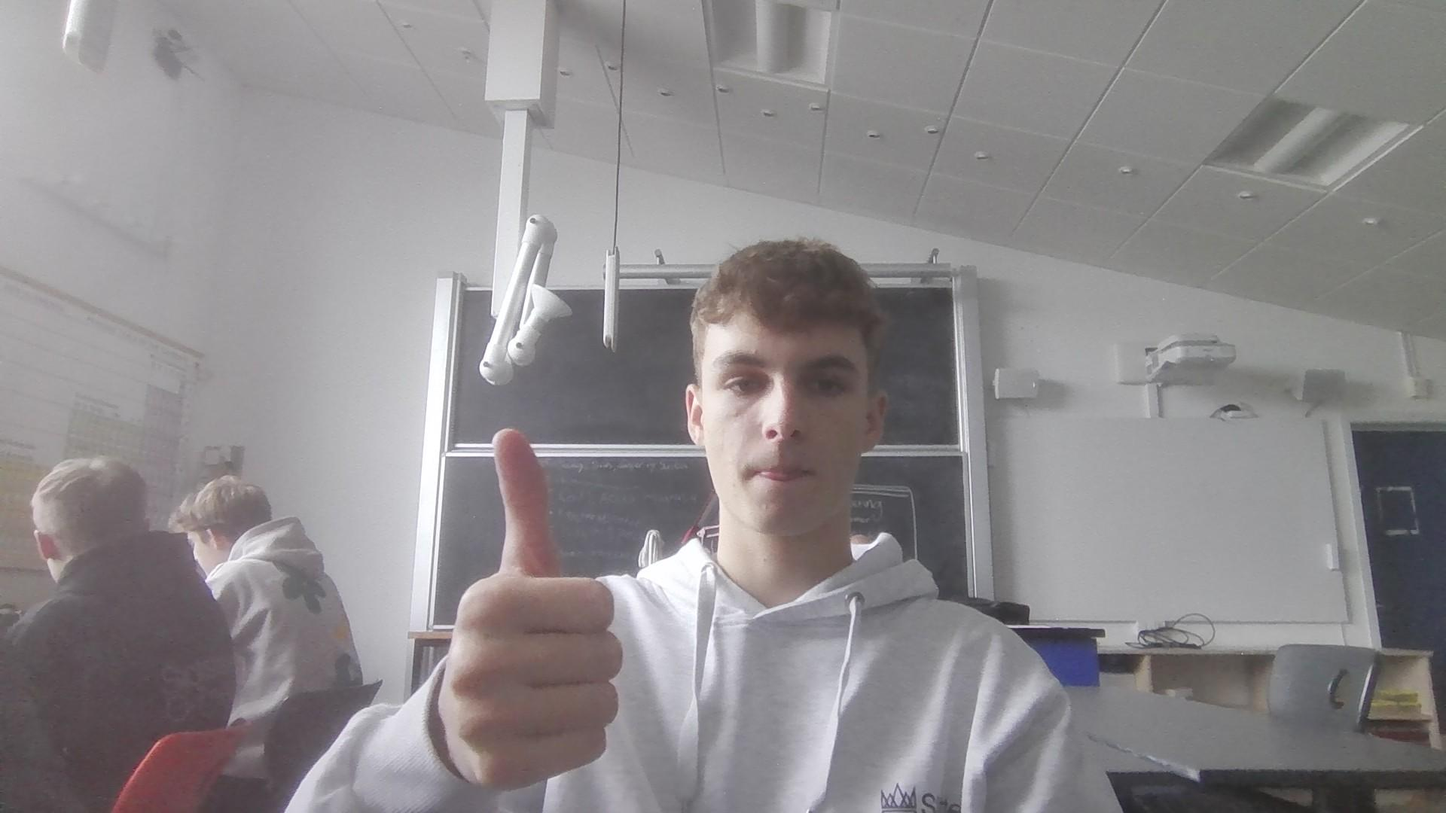thumbs up: (424, 418, 636, 788)
